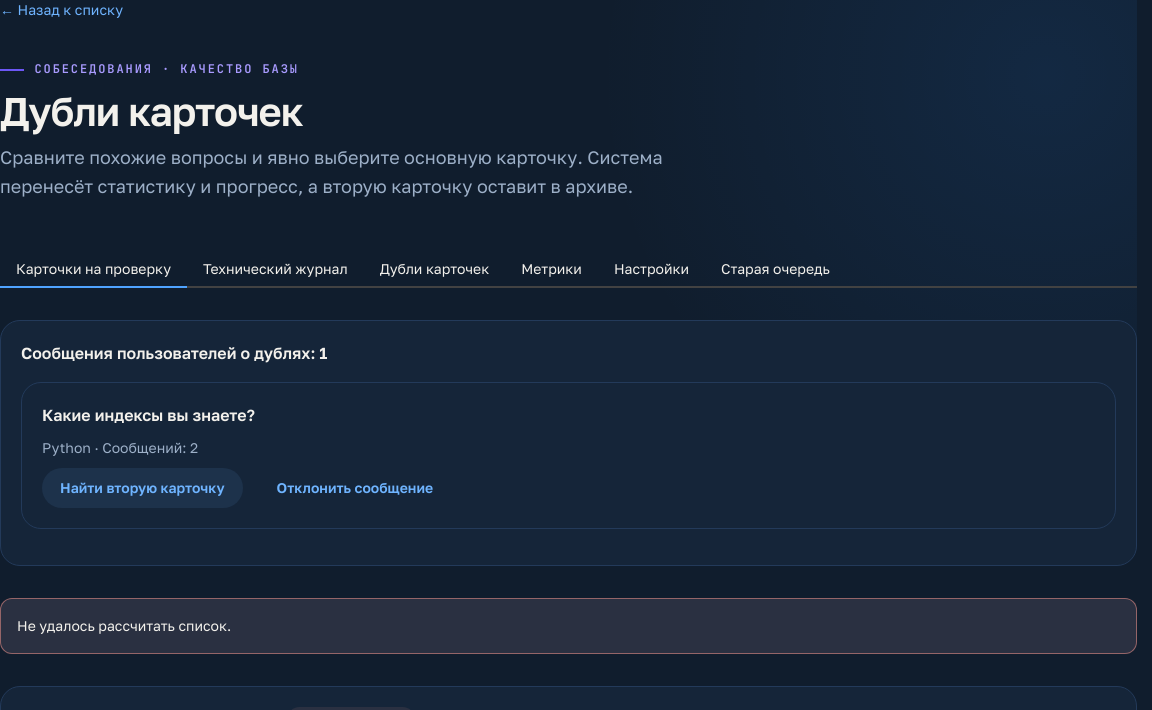
Test case: показывает сообщения независимо от расчёта и позволяет выбрать вторую карточку
This screenshot has width=1152, height=710.
Step 1. Click the button "Найти вторую карточку" → (142, 488), box left=42, top=468, right=242, bottom=508
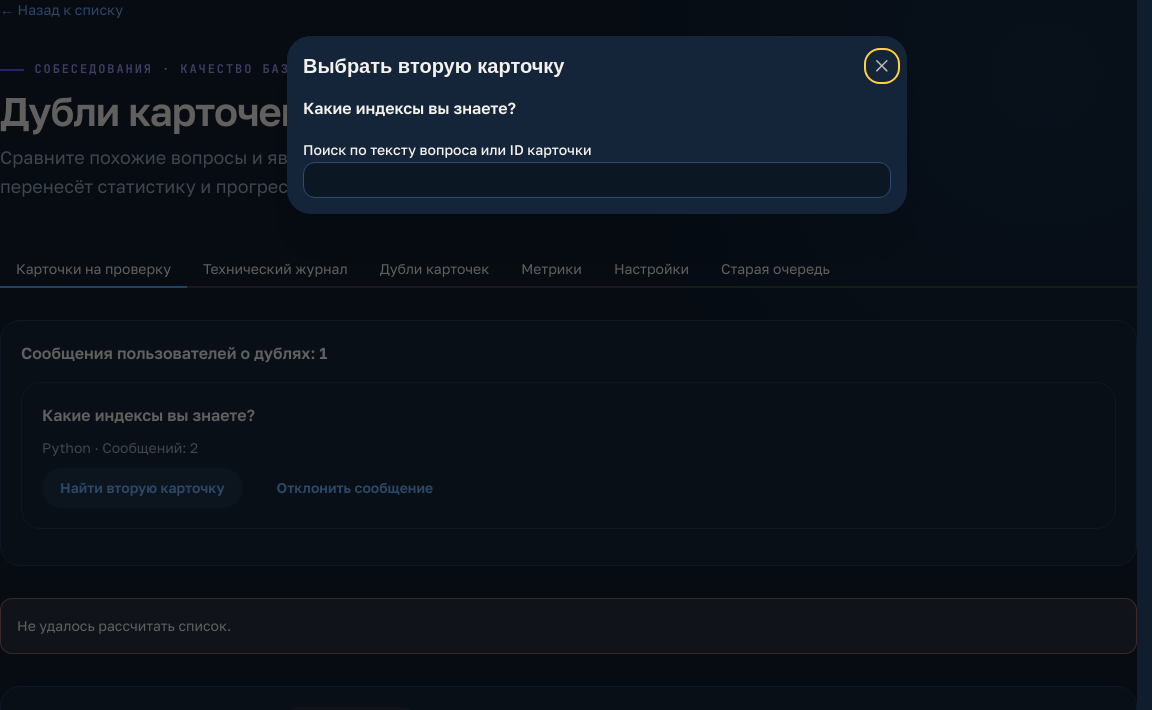
Step 2. Type "индексы" into the field labelled "Поиск по тексту вопроса или ID карточки" → (597, 180), box left=303, top=162, right=891, bottom=198
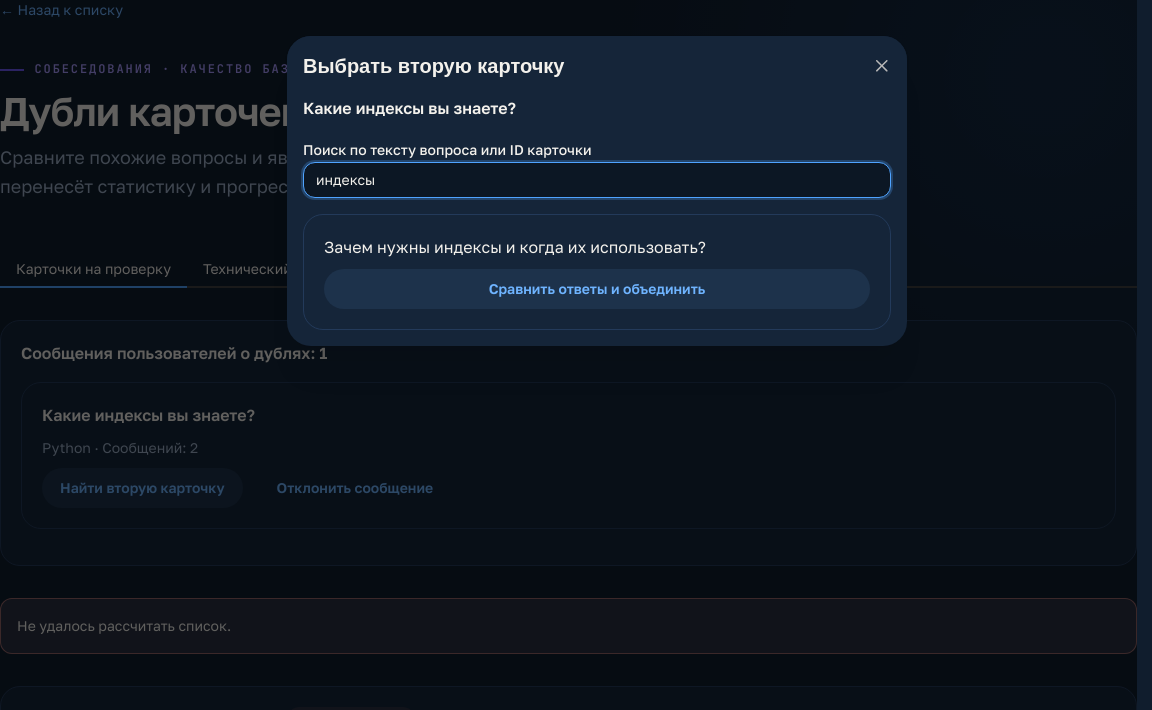
Step 3. Click the button "Сравнить ответы и объединить" → (597, 289), box left=324, top=269, right=870, bottom=309
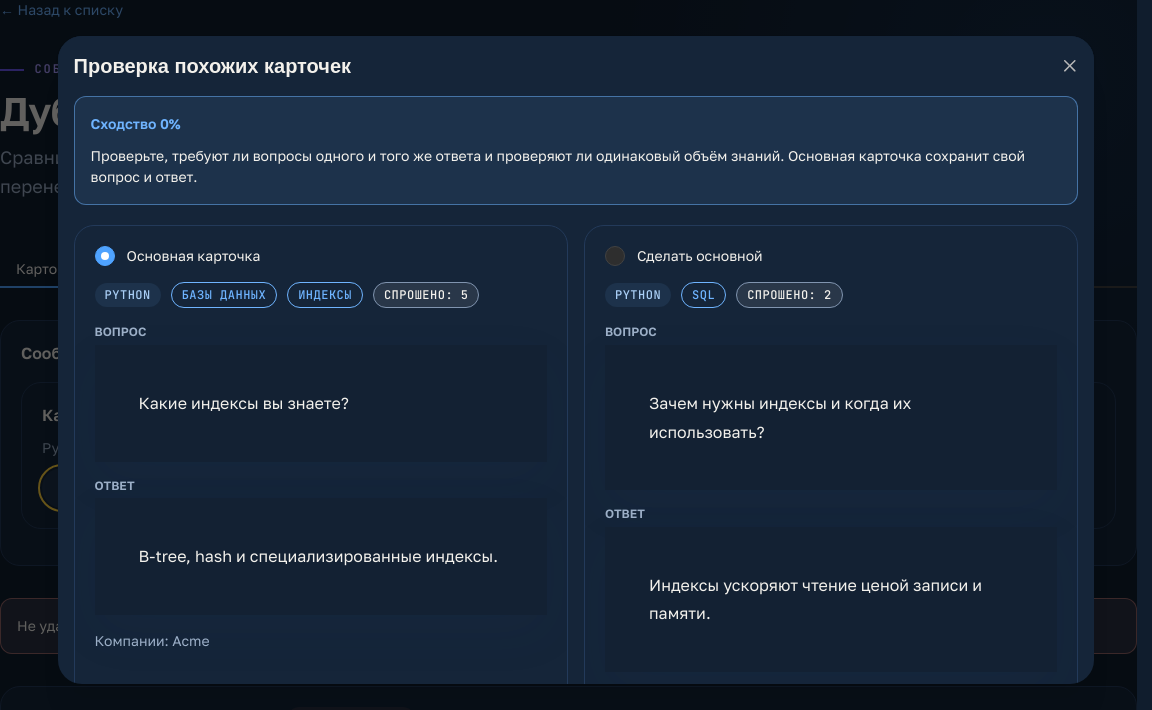
Result: the text "Индексы ускоряют чтение ценой записи и памяти." is shown at left=649, top=571, right=1013, bottom=628
Result: the text "B-tree, hash и специализированные индексы." is shown at left=139, top=542, right=503, bottom=571
